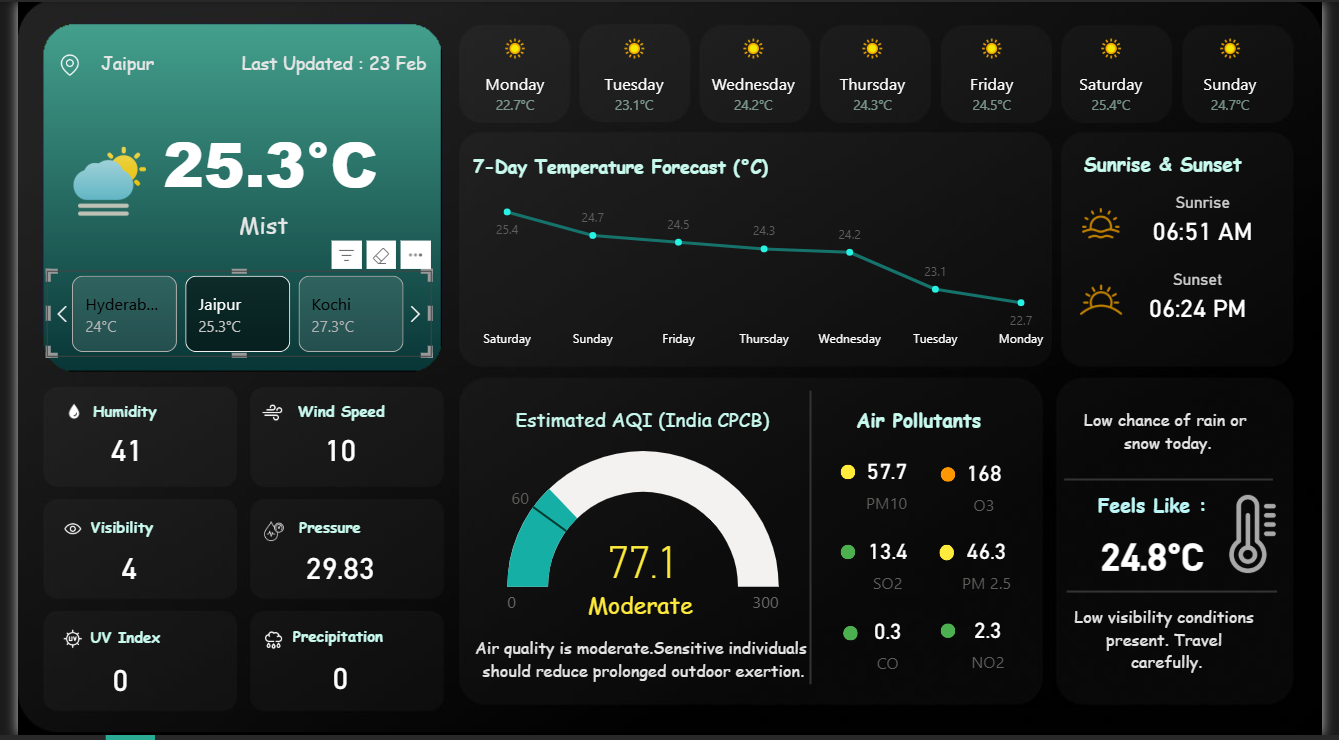

The dashboard page shown, as its layout file describes it:
{"tool":"powerbi","page":{"name":"Dashboard","canvas":[1280,720],"ordinal":0},"visuals":[{"type":"advancedSlicerVisual","fields":{"Values":["Location.location.name"],"Label":["Location.Weather_Icon"]},"box":[28.8,263.8,377.5,85],"z":0},{"type":"card","fields":{"Values":["_Measures.current_temp"]},"box":[104.1,89.2,287.5,132.6],"z":1000},{"type":"card","fields":{"Values":["_Measures.current_condition"]},"box":[107.8,199.5,266.5,40.9],"z":2000},{"type":"card","fields":{"Values":["Min(current.location.name)"]},"box":[52.5,41.7,109.8,41.2],"z":3000},{"type":"card","fields":{"Values":["_Measures.Last_Date"]},"box":[203.7,41.7,213.5,41.7],"z":4000},{"type":"textbox","box":[81,367.8,85.1,50.8],"z":5000},{"type":"image","box":[47.9,392.6,14.7,18.4],"z":6000},{"type":"image","box":[40.2,48.5,20.6,26.1],"z":7000},{"type":"image","box":[240.7,613.5,20.6,26.1],"z":8000},{"type":"image","box":[242.1,506.5,19.2,26.1],"z":9000},{"type":"image","box":[44.5,612.1,19.2,26.1],"z":10000},{"type":"image","box":[44.2,504.3,19,25.8],"z":11000},{"type":"image","box":[239.3,390.2,20.9,25.8],"z":12000},{"type":"textbox","box":[269.9,386.5,158.3,34.4],"z":13000},{"type":"image","box":[39.7,140,101.6,71.9],"z":14000},{"type":"card","fields":{"Values":["Sum(current.current.humidity)"]},"box":[61,400.8,90.6,74.1],"z":15000},{"type":"card","fields":{"Values":["Sum(current.current.precip_in)"]},"box":[270.9,625.8,90.6,74.1],"z":16000},{"type":"card","fields":{"Values":["Sum(current.current.uv)"]},"box":[55.5,627.2,90.6,74.1],"z":17000},{"type":"card","fields":{"Values":["Sum(current.current.pressure_in)"]},"box":[270.9,517.4,90.6,74.1],"z":18000},{"type":"card","fields":{"Values":["Sum(current.current.vis_km)"]},"box":[63.7,517.4,90.6,74.1],"z":19000},{"type":"card","fields":{"Values":["Sum(current.current.wind_degree)"]},"box":[270.9,400.8,90.6,74.1],"z":20000},{"type":"advancedSlicerVisual","fields":{"Values":["forecast_day.Day_Name"]},"box":[428.1,20.6,822,107],"z":21000},{"type":"lineChart","title":"7-Day Temperature Forecast (°C)","fields":{"Y":["Sum(forecast_day.forecast.forecastday.day.avgtemp_c)"],"Category":["forecast_day.Day_Name"]},"box":[441.7,148.3,581.7,200],"z":22000},{"type":"image","box":[1040,198.3,45,37],"z":23000},{"type":"image","box":[1035,263.3,55,56.7],"z":24000},{"type":"card","title":"Sunrise","fields":{"Values":["Min(forecast_day.Sunrise)"]},"box":[1090,188.3,146.7,55],"z":25000},{"type":"card","title":"Sunset","fields":{"Values":["Min(forecast_day.Sunset)"]},"box":[1085,263.3,146.7,55],"z":26000},{"type":"gauge","title":"Estimated AQI (India CPCB)","fields":{"Y":["Location.India_AQI_PM25"],"MaxValue":["_Measures.AQI_Max"],"MinValue":["_Measures.AQI_Min"],"TargetValue":["_Measures.AQI_Target"]},"box":[473.3,396.7,278.3,221.7],"z":27000},{"type":"card","fields":{"Values":["_Measures.AQI_Category"]},"box":[537.4,574.2,147.2,39.3],"z":28000},{"type":"card","title":"d","fields":{"Values":["Sum(current.current.air_quality.pm10)"]},"box":[803.7,435.9,98.2,71.2],"z":29000},{"type":"card","title":"d","fields":{"Values":["Sum(current.current.air_quality.o3)"]},"box":[899.4,437.2,98.2,72.4],"z":30000},{"type":"card","title":"d","fields":{"Values":["Avg(current.current.air_quality.pm2_5)"]},"box":[901.8,512.9,98.2,73.6],"z":31000},{"type":"card","title":"d","fields":{"Values":["Sum(current.current.air_quality.no2)"]},"box":[903.1,590.2,98.2,73.6],"z":32000},{"type":"card","title":"d","fields":{"Values":["Sum(current.current.air_quality.so2)"]},"box":[804.9,513.5,98.2,71.2],"z":33000},{"type":"card","title":"d","fields":{"Values":["_Measures.CO_mg_m3"]},"box":[804.9,591.4,98.2,73.6],"z":34000},{"type":"shape","box":[904.3,532.5,14.7,16],"z":35000},{"type":"shape","box":[905.5,609.8,14.7,14.7],"z":36000},{"type":"shape","box":[809.8,612.3,14.7,14.7],"z":37000},{"type":"shape","box":[807.4,533,14.7,14.7],"z":38000},{"type":"shape","box":[905.5,456.4,14.7,14.7],"z":39000},{"type":"shape","box":[807.4,453.8,14.7,14.7],"z":40000},{"type":"card","fields":{"Values":["_Measures.AQI_Health_Message"]},"box":[428.3,588.3,371.7,113.3],"z":41000},{"type":"card","fields":{"Values":["_Measures.Weather_Advisory"]},"box":[1023.3,564.4,208.6,114.1],"z":42000},{"type":"card","title":"Feels Like :","fields":{"Values":["_Measures.feels_like"]},"box":[1040.5,479.8,146,96.9],"z":43000},{"type":"image","box":[1173,479.8,77.3,84.7],"z":44000},{"type":"card","fields":{"Values":["_Measures.Precipitation_Insight"]},"box":[1024.5,376.7,208.6,88.3],"z":45000},{"type":"shape","box":[1027,446.6,204.9,44.2],"z":46000},{"type":"shape","box":[1030,556.7,206.7,43.3],"z":47000},{"type":"shape","box":[741.1,381.6,73.6,288.3],"z":48000},{"type":"textbox","box":[1026.7,140,193.3,48.3],"z":49000},{"type":"textbox","box":[269.9,607.4,158.3,34.4],"z":50000},{"type":"textbox","box":[66.3,608.6,158.3,34.4],"z":51000},{"type":"textbox","box":[271.2,500.6,158.3,34.4],"z":52000},{"type":"textbox","box":[66.3,500.6,158.3,34.4],"z":53000},{"type":"textbox","box":[68.7,386.5,158.3,34.4],"z":54000},{"type":"textbox","box":[265,607.4,158.3,34.4],"z":55000},{"type":"textbox","box":[787.7,391.4,192.6,49.1],"z":56000}]}

Visuals, with their boxes in screenshot pixels (x1, y1, x2, y2), scaled from the page's 1280x720 canvas onto the 1339x740 screenshot:
advancedSlicerVisual - Location.location.name x Location.Weather_Icon: region(30, 271, 425, 358)
card - _Measures.current_temp: region(109, 92, 410, 228)
card - _Measures.current_condition: region(113, 205, 392, 247)
card - Min(current.location.name): region(55, 43, 170, 85)
card - _Measures.Last_Date: region(213, 43, 436, 86)
textbox: region(85, 378, 174, 430)
image: region(50, 404, 65, 422)
image: region(42, 50, 64, 77)
image: region(252, 631, 273, 657)
image: region(253, 521, 273, 547)
image: region(47, 629, 67, 656)
image: region(46, 518, 66, 545)
image: region(250, 401, 272, 428)
textbox: region(282, 397, 448, 433)
image: region(42, 144, 148, 218)
card - Sum(current.current.humidity): region(64, 412, 159, 488)
card - Sum(current.current.precip_in): region(283, 643, 378, 719)
card - Sum(current.current.uv): region(58, 645, 153, 721)
card - Sum(current.current.pressure_in): region(283, 532, 378, 608)
card - Sum(current.current.vis_km): region(67, 532, 161, 608)
card - Sum(current.current.wind_degree): region(283, 412, 378, 488)
advancedSlicerVisual - forecast_day.Day_Name: region(448, 21, 1308, 131)
"7-Day Temperature Forecast (°C)" lineChart: region(462, 152, 1071, 358)
image: region(1088, 204, 1135, 242)
image: region(1083, 271, 1140, 329)
"Sunrise" card: region(1140, 194, 1294, 250)
"Sunset" card: region(1135, 271, 1288, 327)
"Estimated AQI (India CPCB)" gauge: region(495, 408, 786, 636)
card - _Measures.AQI_Category: region(562, 590, 716, 631)
"d" card: region(841, 448, 943, 521)
"d" card: region(941, 449, 1044, 524)
"d" card: region(943, 527, 1046, 603)
"d" card: region(945, 607, 1047, 682)
"d" card: region(842, 528, 945, 601)
"d" card: region(842, 608, 945, 683)
shape: region(946, 547, 961, 564)
shape: region(947, 627, 963, 642)
shape: region(847, 629, 863, 644)
shape: region(845, 548, 860, 563)
shape: region(947, 469, 963, 484)
shape: region(845, 466, 860, 482)
card - _Measures.AQI_Health_Message: region(448, 605, 837, 721)
card - _Measures.Weather_Advisory: region(1070, 580, 1289, 697)
"Feels Like :" card: region(1088, 493, 1241, 593)
image: region(1227, 493, 1308, 580)
card - _Measures.Precipitation_Insight: region(1072, 387, 1290, 478)
shape: region(1074, 459, 1289, 504)
shape: region(1077, 572, 1294, 617)
shape: region(775, 392, 852, 689)
textbox: region(1074, 144, 1276, 194)
textbox: region(282, 624, 448, 660)
textbox: region(69, 626, 235, 661)
textbox: region(284, 515, 449, 550)
textbox: region(69, 515, 235, 550)
textbox: region(72, 397, 237, 433)
textbox: region(277, 624, 443, 660)
textbox: region(824, 402, 1025, 453)
